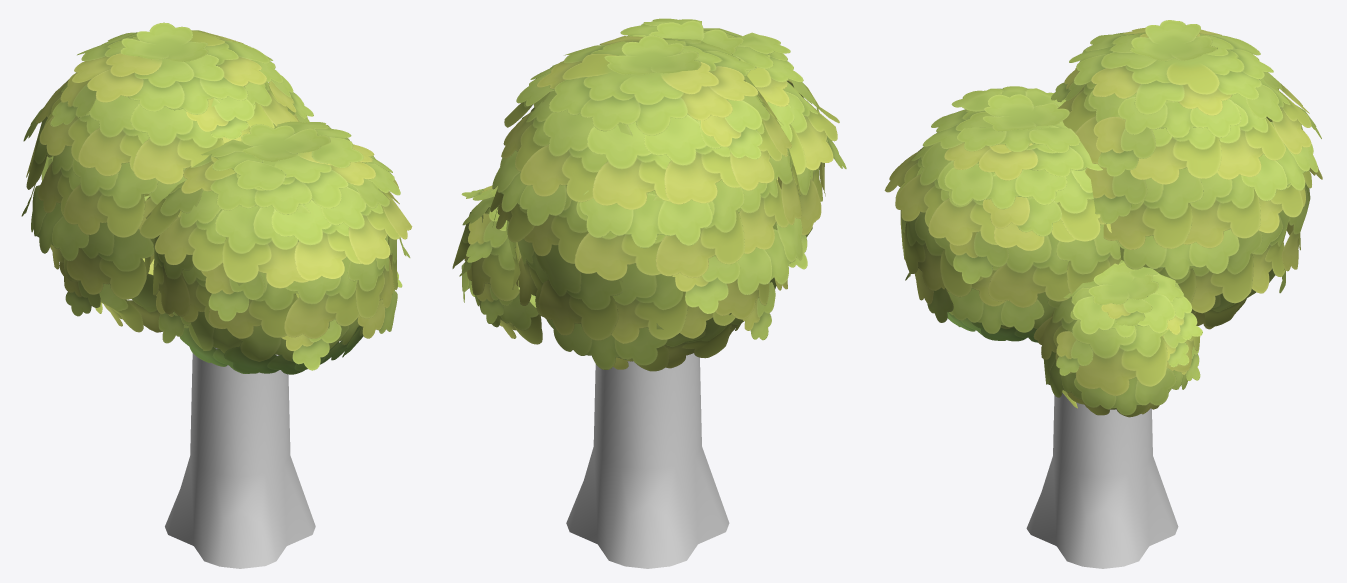
File: Trees.fbx
3 views of the same model, side by side, from view 1: azimuth 30°, elevation 25°; view 2: azimuth 150°, elevation 25°; view 3: azimuth 270°, elevation 25° (orthographic). The views are drawn at different scales.
Parts seen in each view (by area): view 1: Plane.088, Cylinder; view 2: Plane.088, Cylinder; view 3: Plane.088, Cylinder.
Boxes of the visible parts, box(x1,y1,x2,y2) form: Plane.088: box(21, 22, 412, 374); Cylinder: box(165, 347, 315, 568); Plane.088: box(452, 18, 846, 371); Cylinder: box(566, 353, 729, 568); Plane.088: box(884, 20, 1322, 417); Cylinder: box(1026, 393, 1178, 568).
Size of the model in its own units: 168 by 236 by 203.
